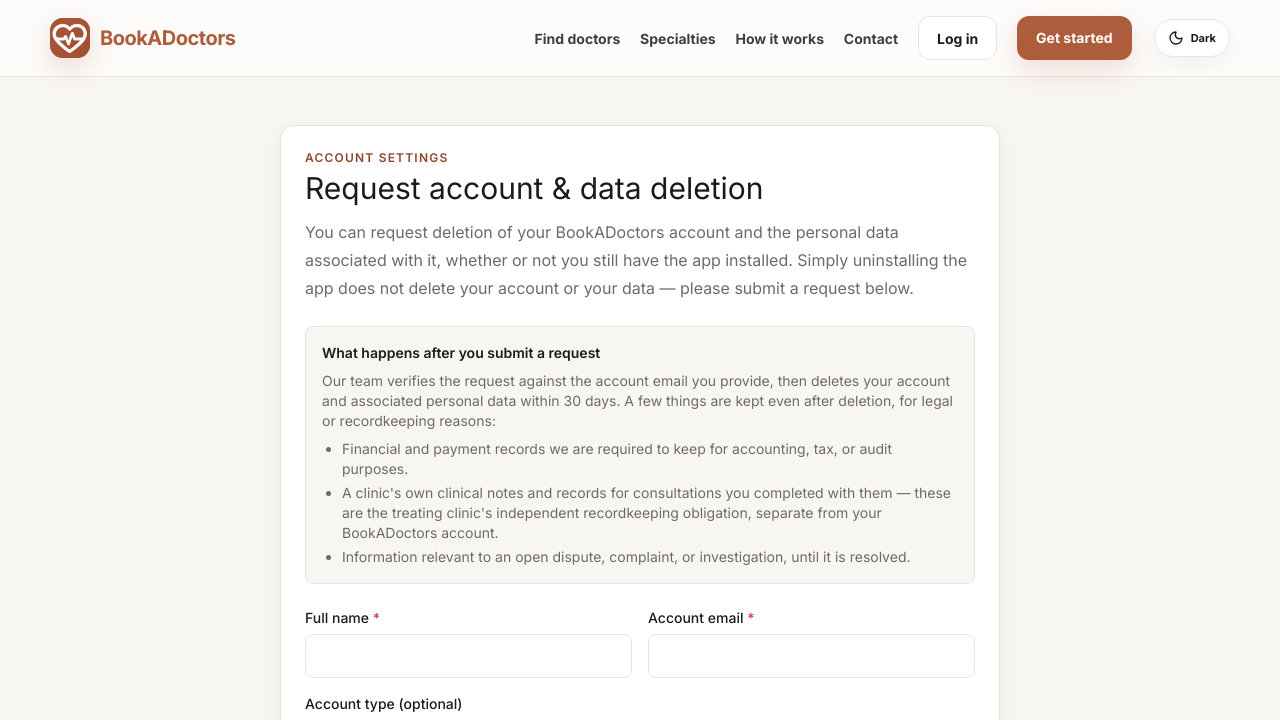
Test: AccountDeletion › falls back to a generic error message when the rejection carries none
In the field labelled "Full name *": (468, 656) [305,634,632,678], type "Asha Mehta"
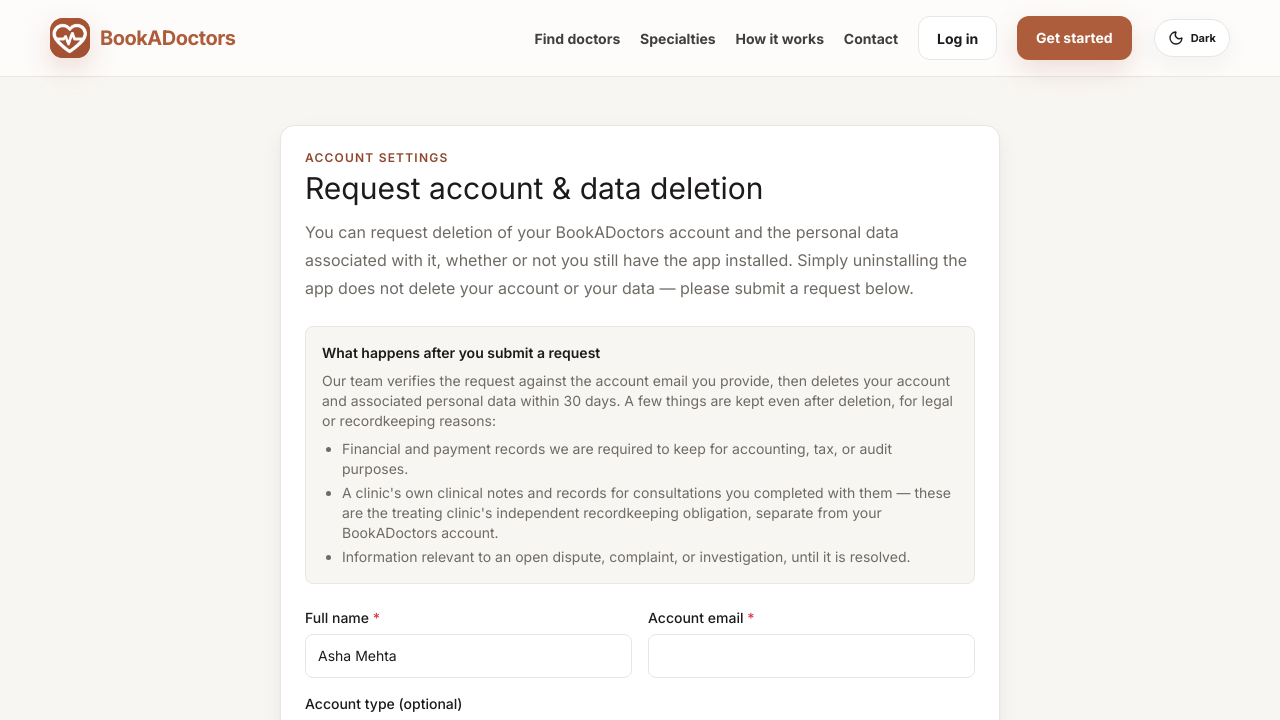
In the field labelled "Account email *": (812, 656) [648,634,975,678], type "asha@example.com"
(page scrolled)
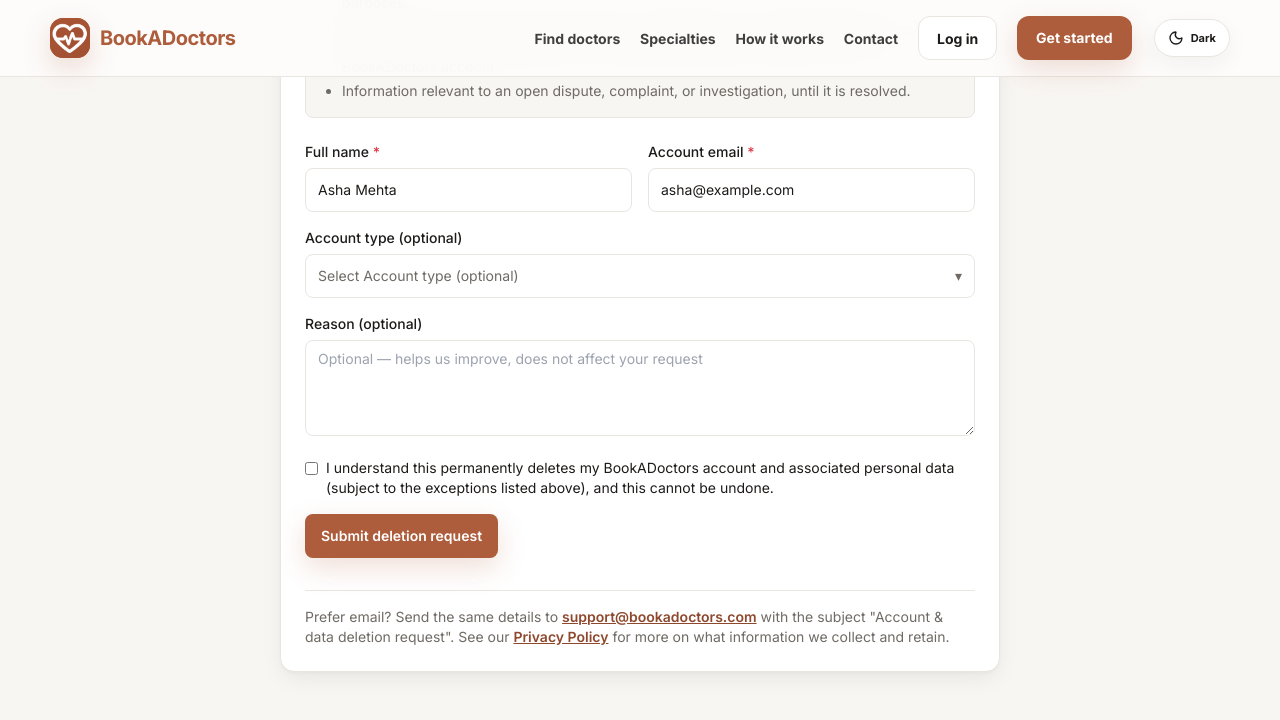
Click the checkbox: click(312, 468) [305,462,318,475]
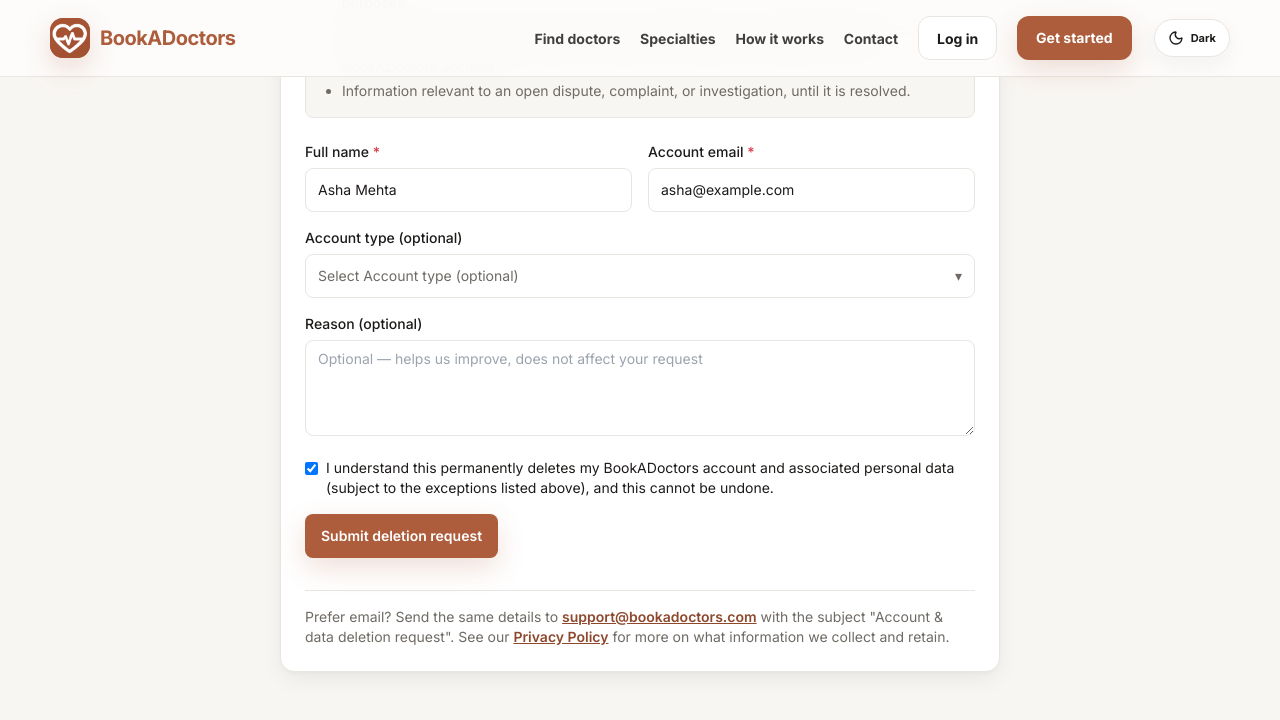
Click the button "Submit deletion request": click(402, 536) [305,514,498,558]
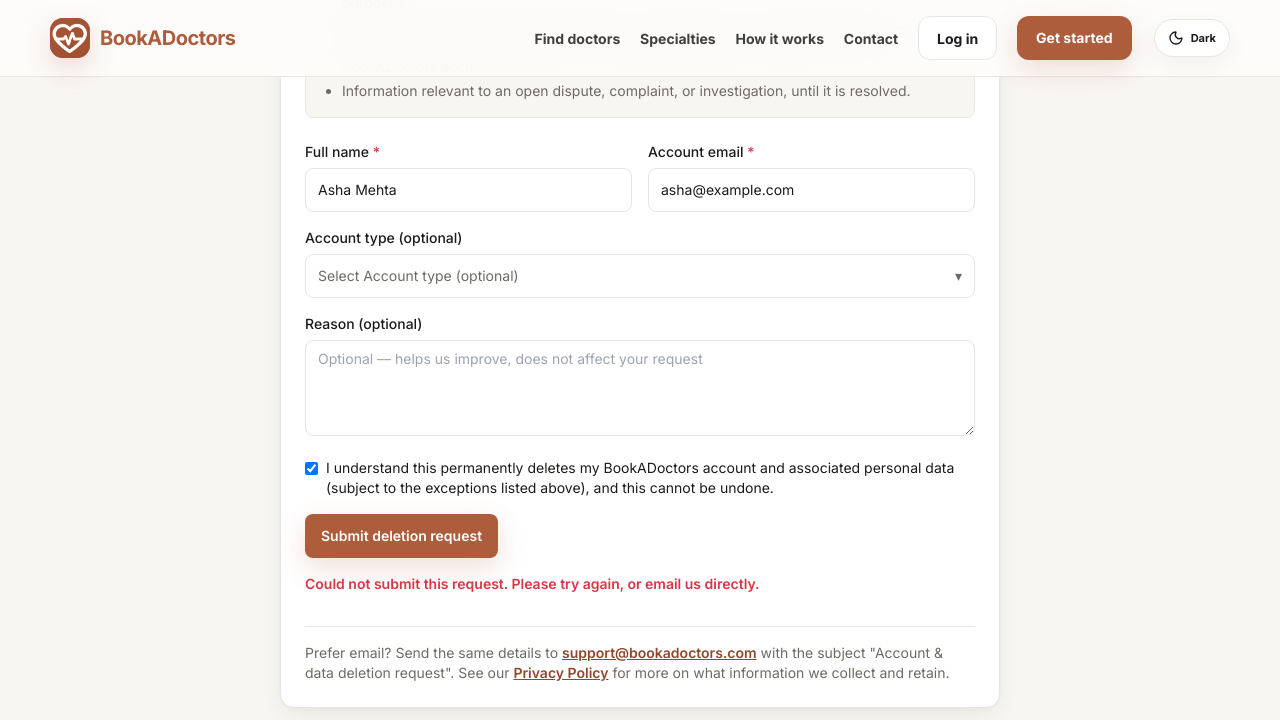
Now the text "Could not submit this request. Please try again, or email us directly." is shown, box [305,575,760,592]
